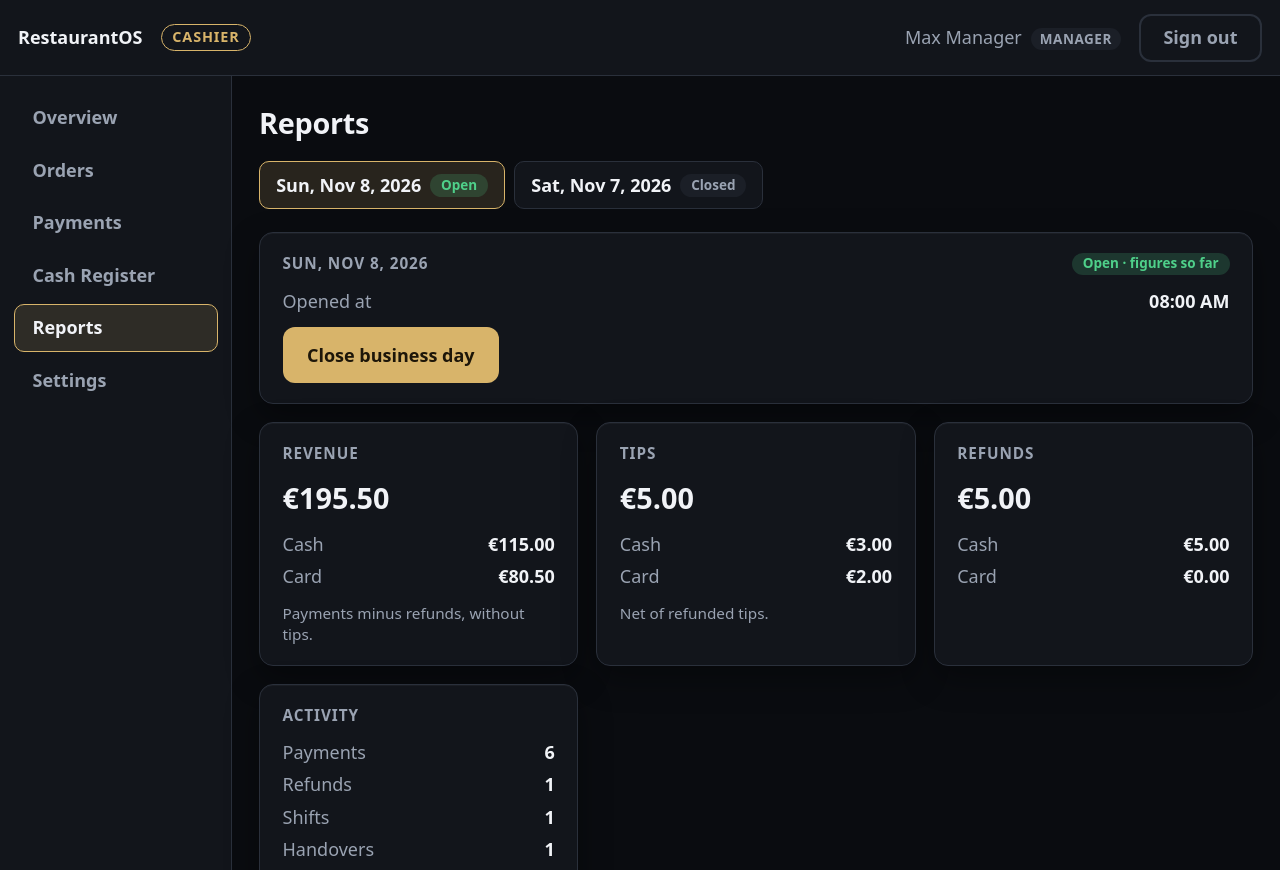
Scenario: closing the business day › closes the day after a confirmation and shows the frozen report
The width and height of the screenshot is (1280, 870).
What coordinates should you click on to do the following:
click the button "Close business day"
I would click on:
 (391, 355)
Its box is [282, 327, 499, 383].
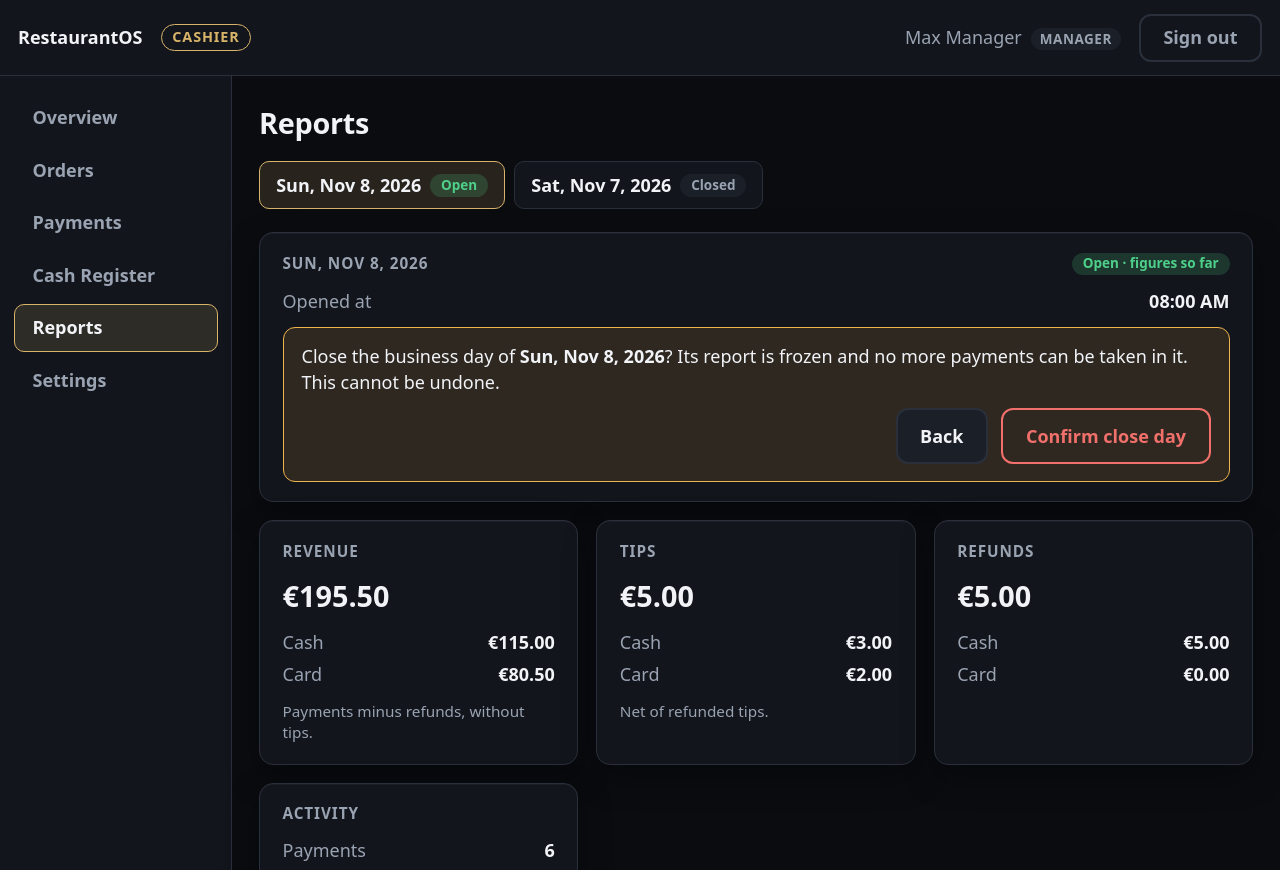
Now the text "This cannot be undone" is shown, box [302, 344, 1188, 394]
What coordinates should you click on to do the following:
click the button "Confirm close day"
I would click on:
 (1106, 436)
Its box is [1001, 408, 1210, 464].
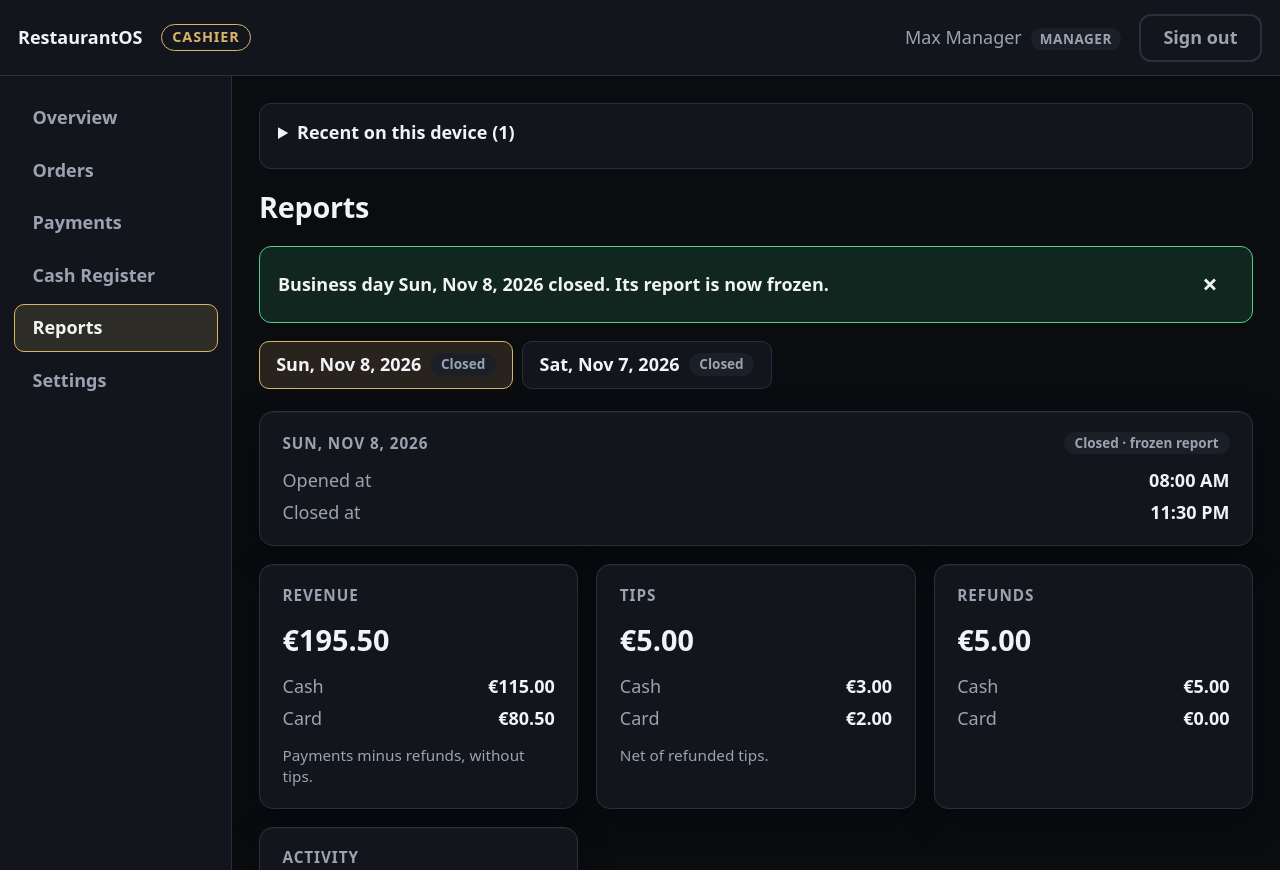
Expected: the button "Close business day" is not shown
Now the text "closed. Its report is now frozen." is shown, box [278, 272, 829, 296]
Now the text "Closed · frozen report" is shown, box [1064, 432, 1230, 454]
